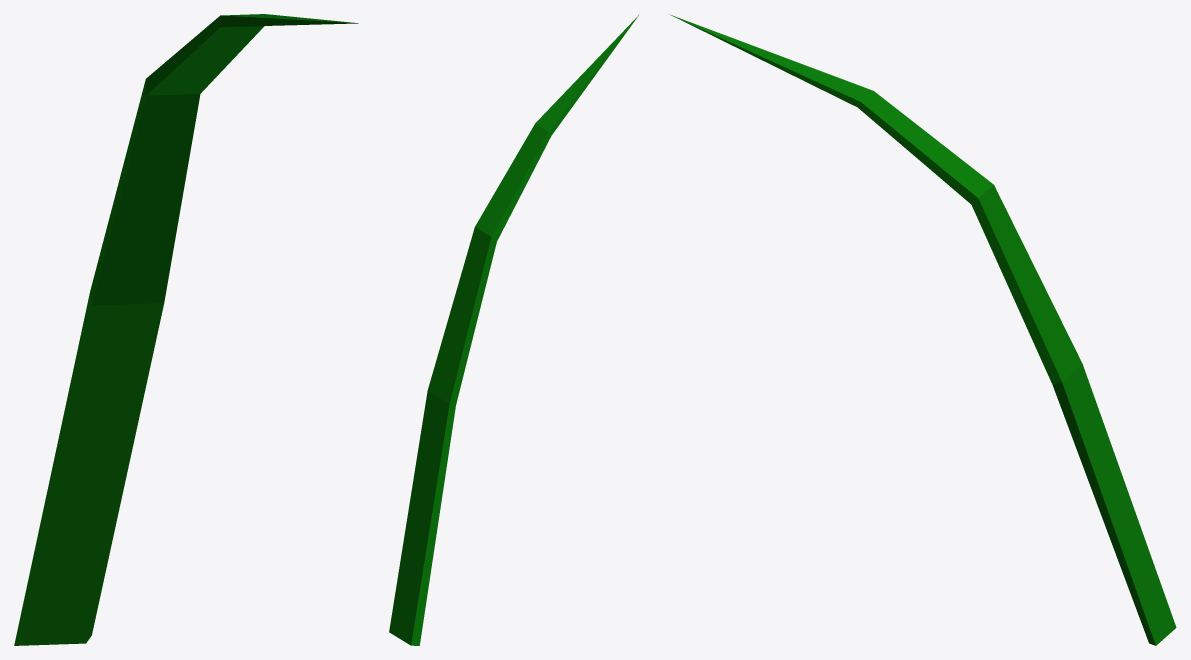
File: Grass-1.fbx
The picture shows the model from 3 angles, left to right: view 1: azimuth 30°, elevation 25°; view 2: azimuth 150°, elevation 25°; view 3: azimuth 270°, elevation 25°; orthographic projection. The views are drawn at different scales.
Parts seen in each view (by area): view 1: Grass-1; view 2: Grass-1; view 3: Grass-1.
Part boxes in pixels (x1,y1,x2,y2): Grass-1: [14, 14, 358, 645]; Grass-1: [389, 14, 639, 645]; Grass-1: [670, 14, 1176, 645].
Size of the model in its own units: 47.43 by 318 by 415.
